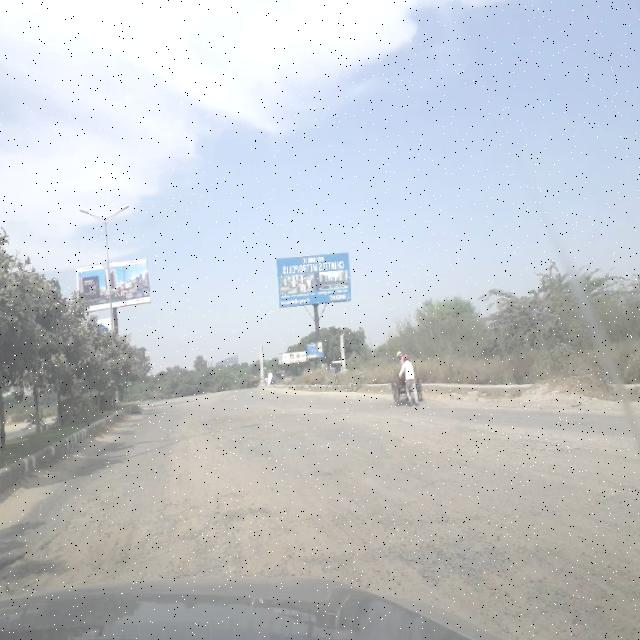D40: (4, 451, 350, 593)
